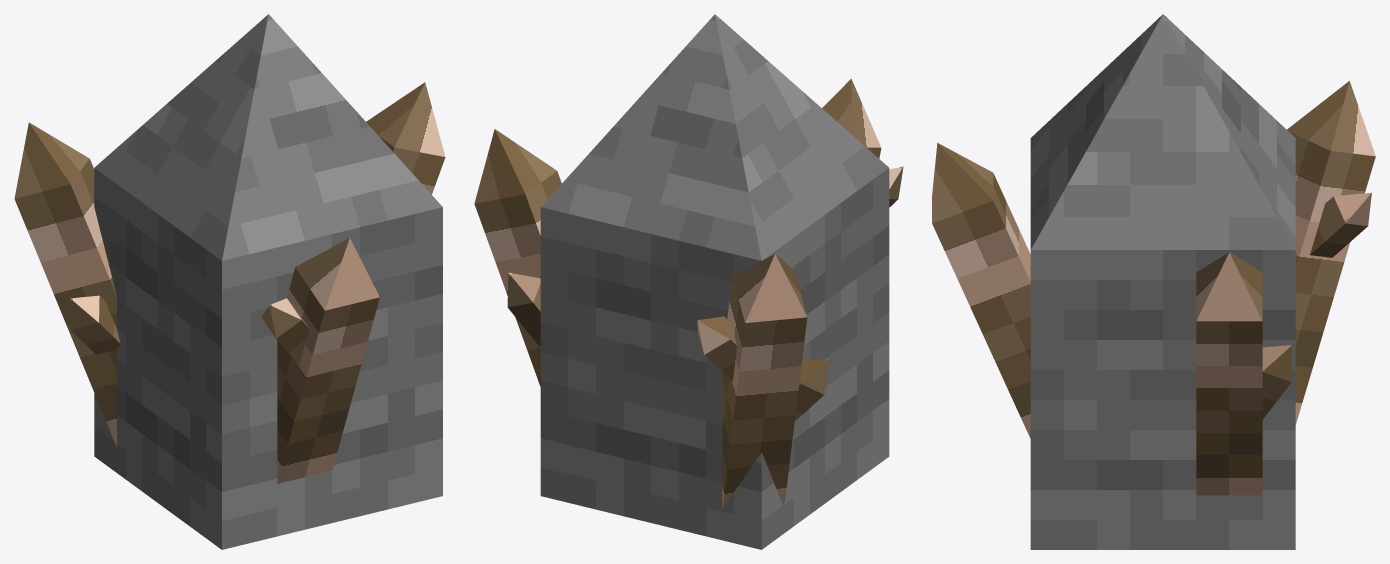
Rendered from iron_ore_crystal.obj.
3 renders of one model, left to right at view 1: azimuth 30°, elevation 25°; view 2: azimuth 150°, elevation 25°; view 3: azimuth 270°, elevation 25°, orthographic. The views are drawn at different scales.
Visible parts, largest first — view 1: cube; view 2: cube; view 3: cube.
Boxes of the visible parts, x1,y1,x2,y2 form: cube: (14,14,445,549); cube: (474,14,903,549); cube: (932,14,1375,549).
Bounding box in the file's own units: 0.8286 × 1 × 0.8379.
